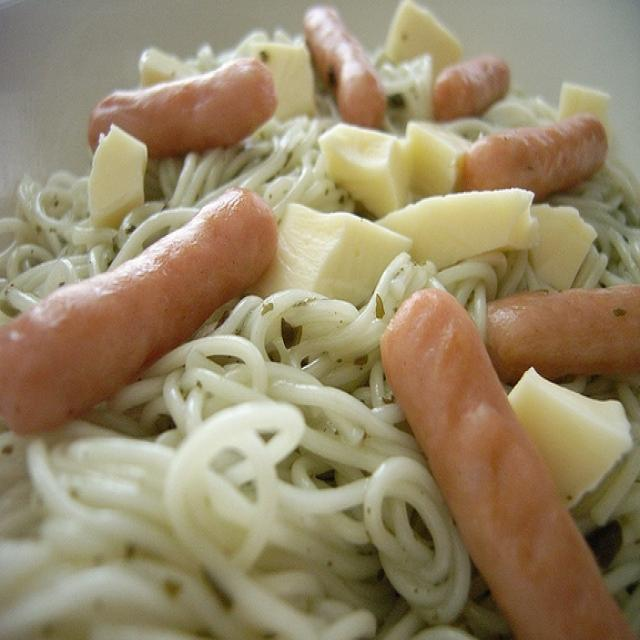面条主食: (3, 7, 619, 621)
